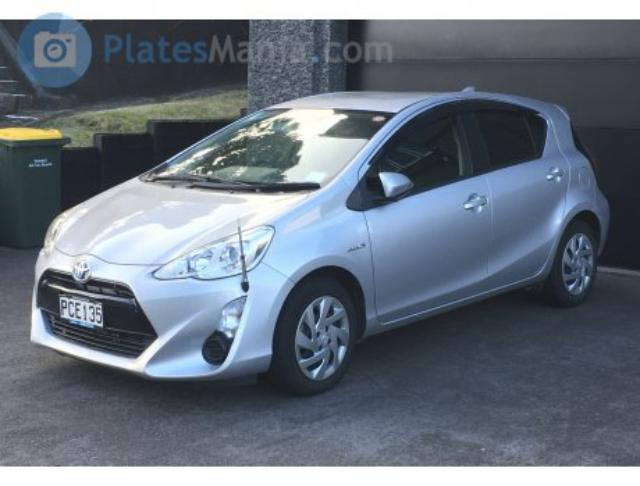Rego: (58, 294, 105, 333)
